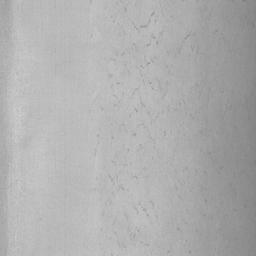Silk spot: (132, 19, 151, 32)
